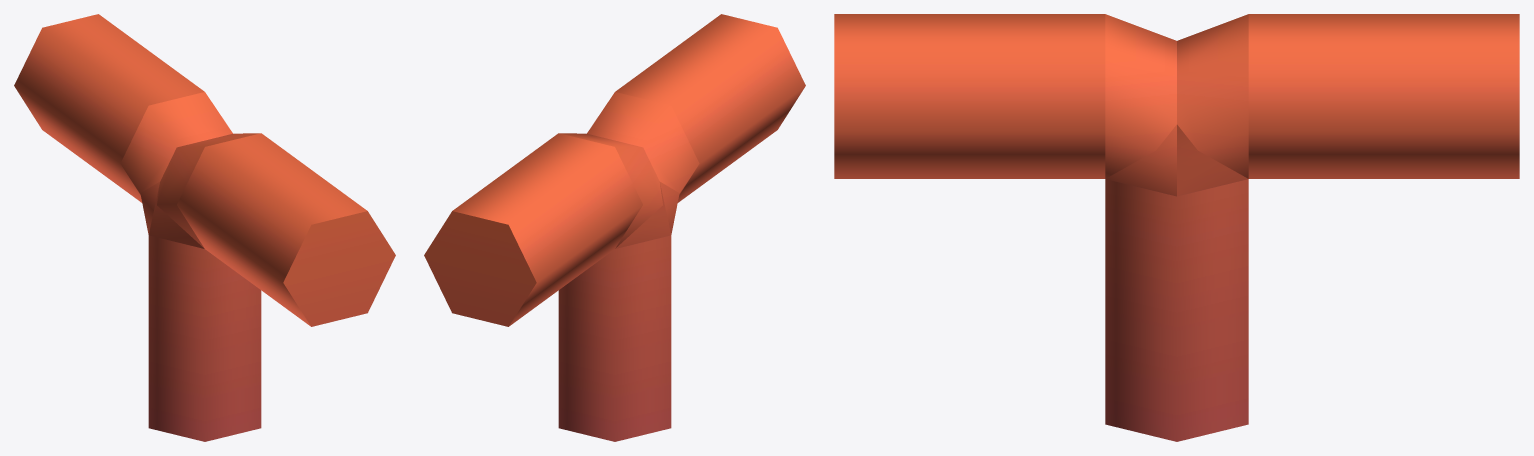
The model's file is pipe-split.glb.
3 views of the same model, side by side, from view 1: azimuth 30°, elevation 25°; view 2: azimuth 150°, elevation 25°; view 3: azimuth 270°, elevation 25° (orthographic). The views are drawn at different scales.
Visible parts, largest first — view 1: pipe-split; view 2: pipe-split; view 3: pipe-split.
Boxes of the visible parts, box(x1,y1,x2,y2) form: pipe-split: box(14, 14, 395, 441); pipe-split: box(424, 14, 805, 441); pipe-split: box(834, 14, 1519, 441).
Bounding box in the file's own units: 0.1999 × 0.5 × 0.8268.
1 material, 1 textured.
